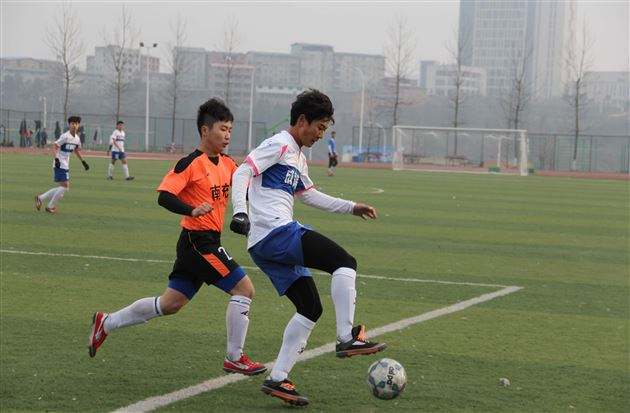football: (366, 358, 408, 401)
